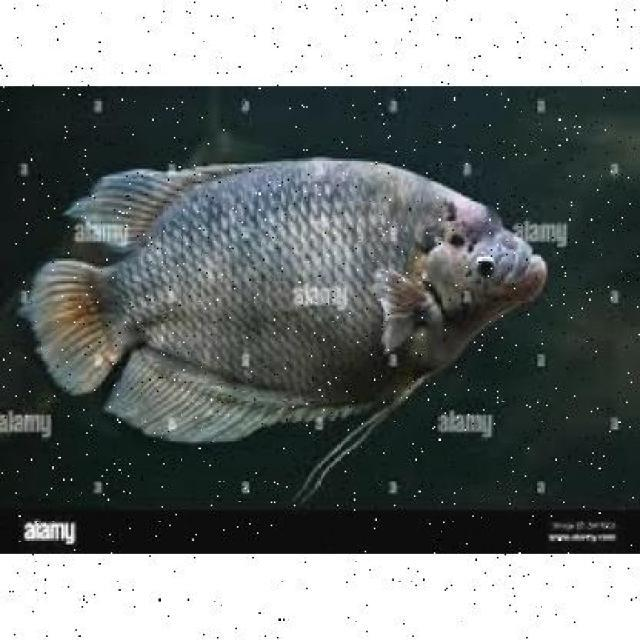gurame: (26, 157, 548, 446)
